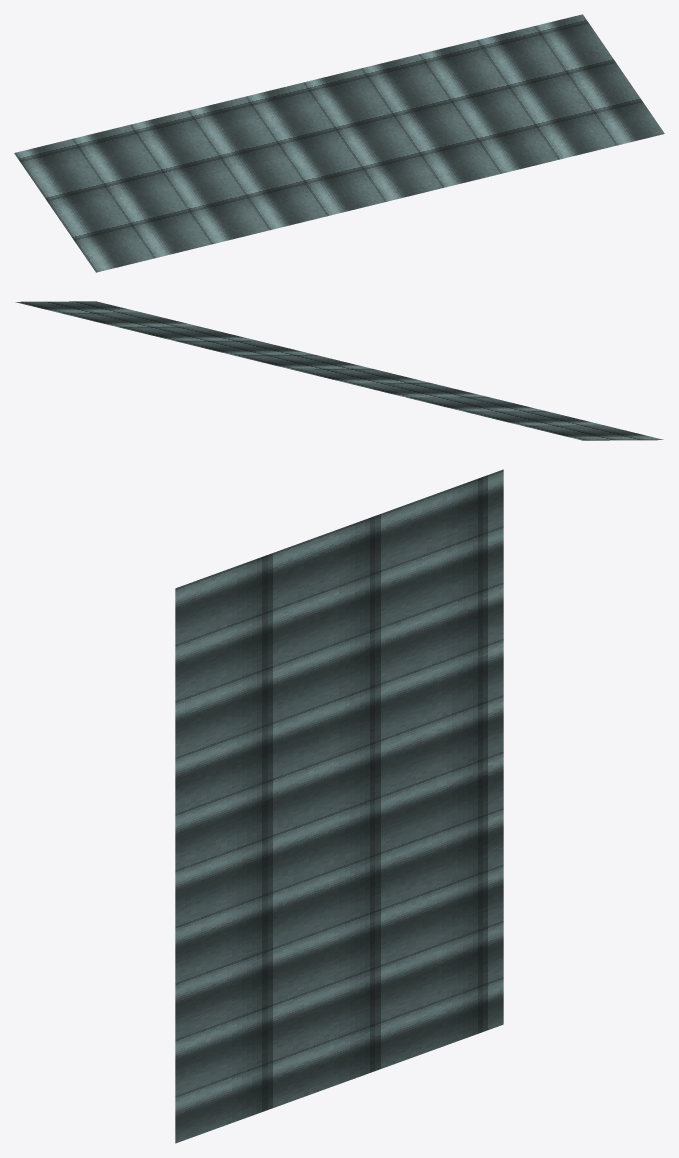
Rendered from roof_edge_mid_4.glb.
The picture shows the model from 3 angles, top to bottom: view 1: azimuth 30°, elevation 25°; view 2: azimuth 150°, elevation 25°; view 3: azimuth 270°, elevation 25°; orthographic projection. The views are drawn at different scales.
Parts seen in each view (by area): view 1: roof_edge_mid_4; view 2: roof_edge_mid_4; view 3: roof_edge_mid_4.
Part boxes in pixels (x1=…): roof_edge_mid_4: x1=14, y1=14, x2=664, y2=272; roof_edge_mid_4: x1=15, y1=301, x2=663, y2=440; roof_edge_mid_4: x1=175, y1=469, x2=503, y2=1143.
Size of the model in its own units: 4 by 0.4 by 1.
1 material, 1 textured.
